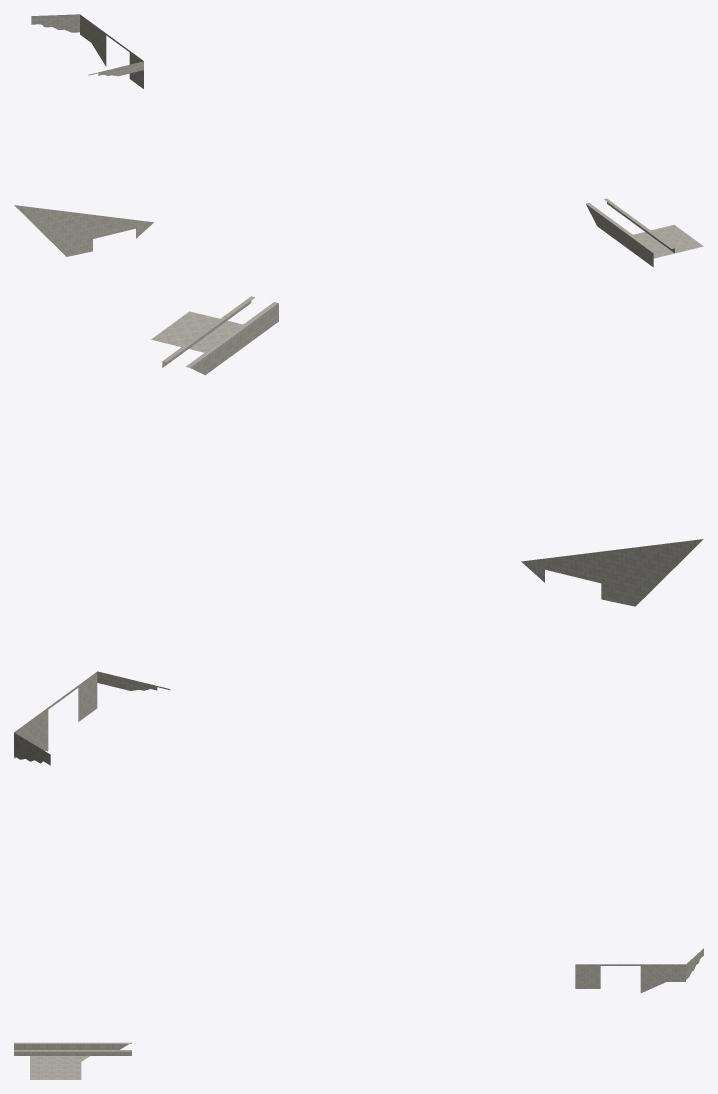
The model's file is kd_connection_town-ground_surface_1_13.glb.
3 renders of one model, top to bottom at view 1: azimuth 30°, elevation 25°; view 2: azimuth 150°, elevation 25°; view 3: azimuth 270°, elevation 25°, orthographic. The views are drawn at different scales.
Visible parts, largest first — view 1: kd_connection_town-ground_surface_1_13; view 2: kd_connection_town-ground_surface_1_13; view 3: kd_connection_town-ground_surface_1_13.
Boxes of the visible parts, left/top/right/bottom form: kd_connection_town-ground_surface_1_13: left=14, top=14, right=703, bottom=267; kd_connection_town-ground_surface_1_13: left=14, top=296, right=703, bottom=765; kd_connection_town-ground_surface_1_13: left=14, top=948, right=703, bottom=1079.
Size of the model in its own units: 32.11 by 4.82 by 40.9.
1 material, 1 textured.
